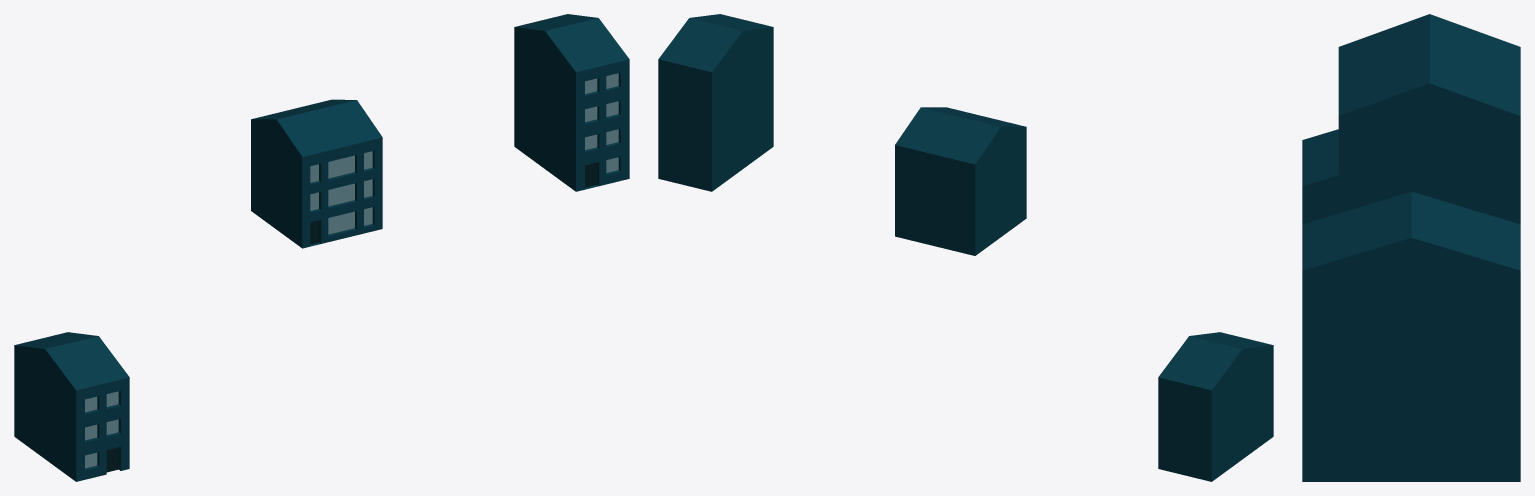
File: BinaGrup15.gltf
3 views of the same model, side by side, from view 1: azimuth 30°, elevation 25°; view 2: azimuth 150°, elevation 25°; view 3: azimuth 270°, elevation 25° (orthographic). The views are drawn at different scales.
Visible parts, largest first — view 1: Building_067.011, Building_053.011, Building_040.011, Building_053.012, Building_067.012, Building_040.012; view 2: Building_067.011, Building_053.011, Building_040.011; view 3: Building_067.011, Building_053.011, Building_040.011.
Boxes of the visible parts, x1,y1,x2,y2 form: Building_067.011: (514,14,629,191); Building_053.011: (251,99,382,248); Building_040.011: (14,332,129,481); Building_053.012: (310,151,372,234); Building_067.012: (585,73,618,172); Building_040.012: (85,391,118,468); Building_067.011: (658,14,773,191); Building_053.011: (895,107,1026,255); Building_040.011: (1158,332,1273,481); Building_067.011: (1302,191,1520,481); Building_053.011: (1338,14,1520,224); Building_040.011: (1302,129,1338,224).
Size of the model in its own units: 0.337 by 0.1783 by 0.0652.
